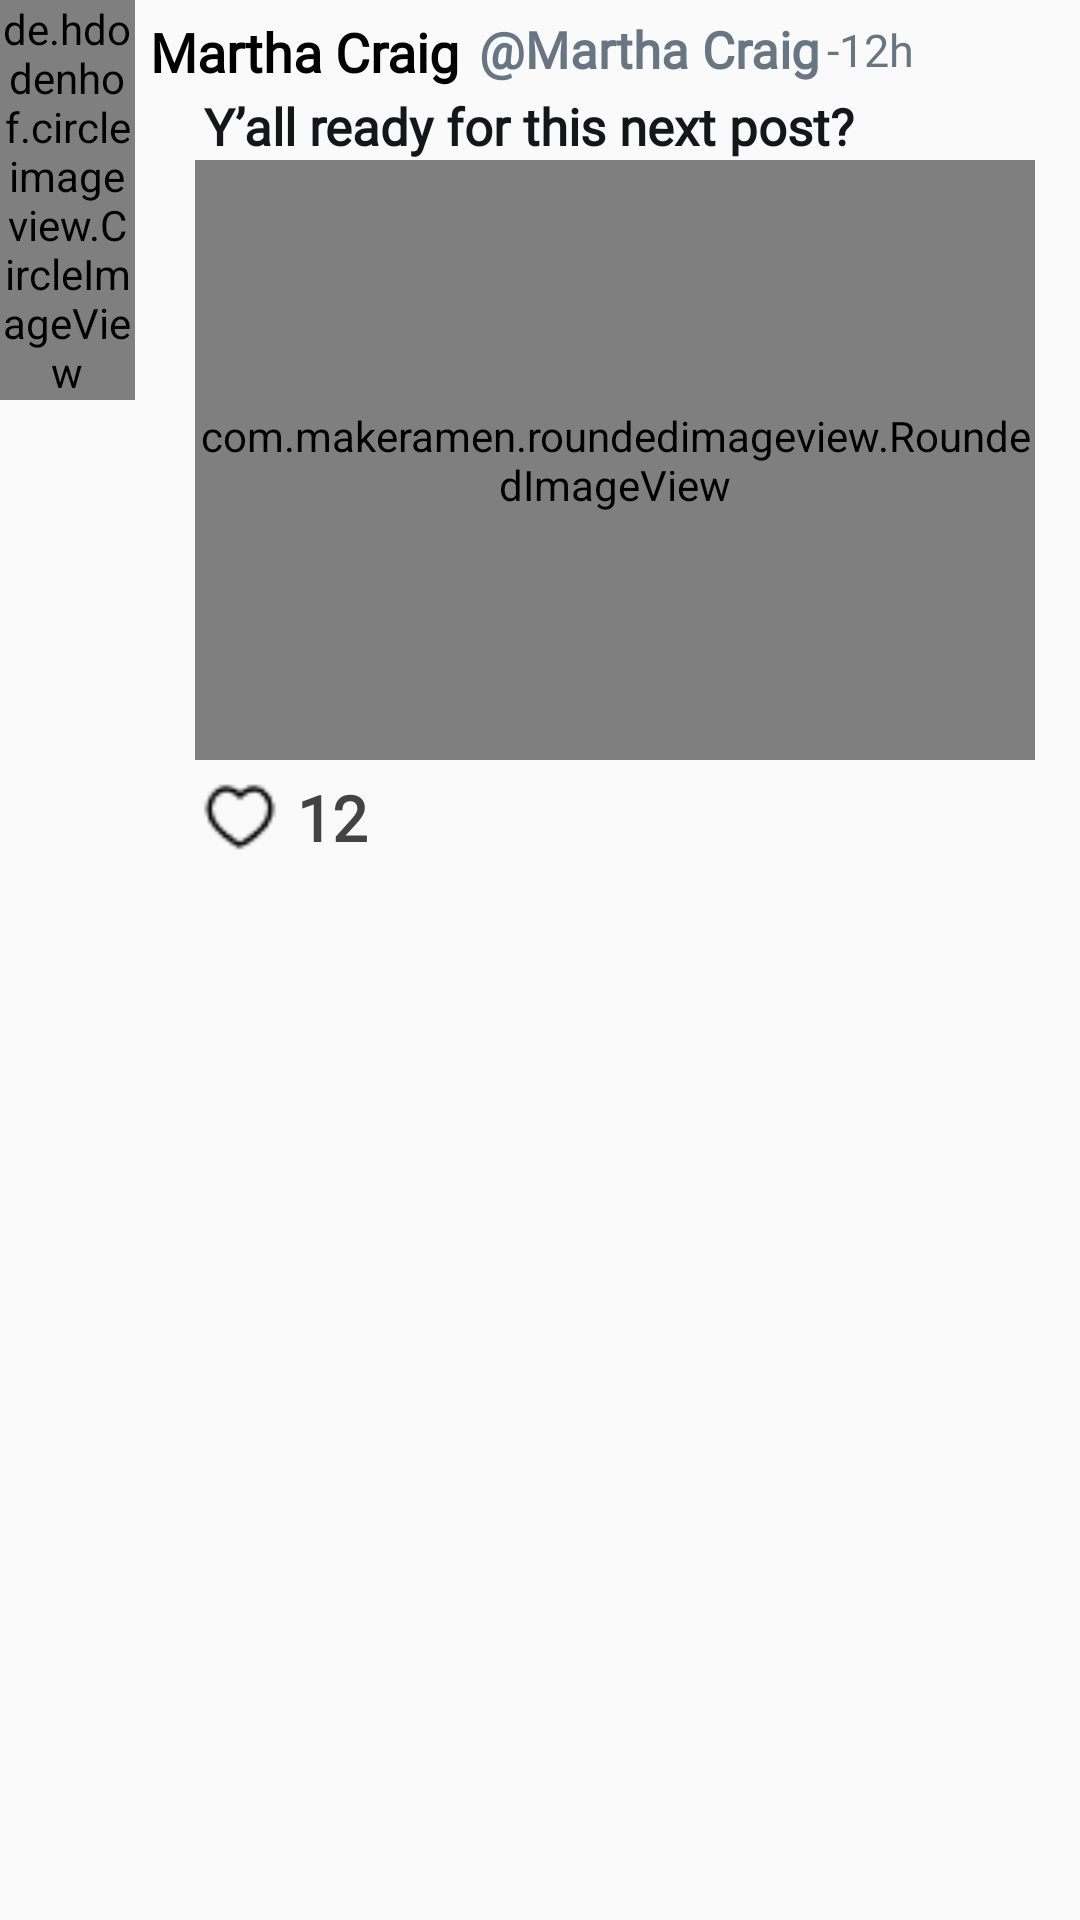

Icons on this 1080px x 1920px Android screen, each with the point to tap as (x,y):
likepost: (240,817)
